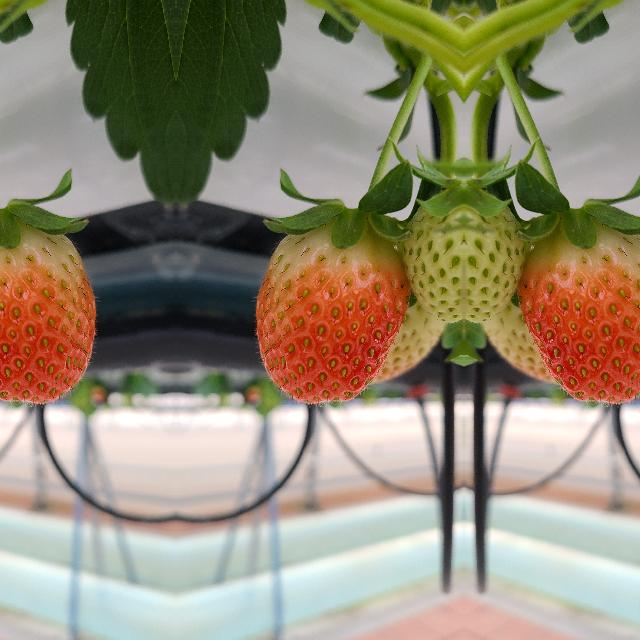Health_100: (255, 216, 409, 404), (517, 216, 640, 404), (0, 216, 95, 404)
Health_25: (400, 176, 462, 322), (464, 176, 526, 322)
